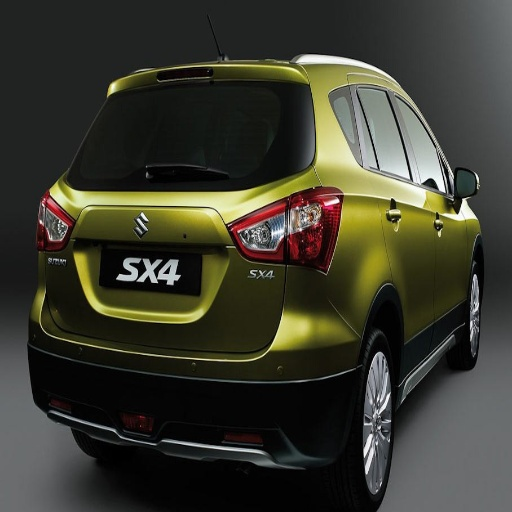back_bumper: (32, 253, 362, 470)
back_left_light: (38, 194, 69, 253)
back_right_door: (354, 80, 432, 363)
tailgate: (54, 174, 271, 355)
trunk: (74, 184, 289, 319), (59, 300, 230, 357)
